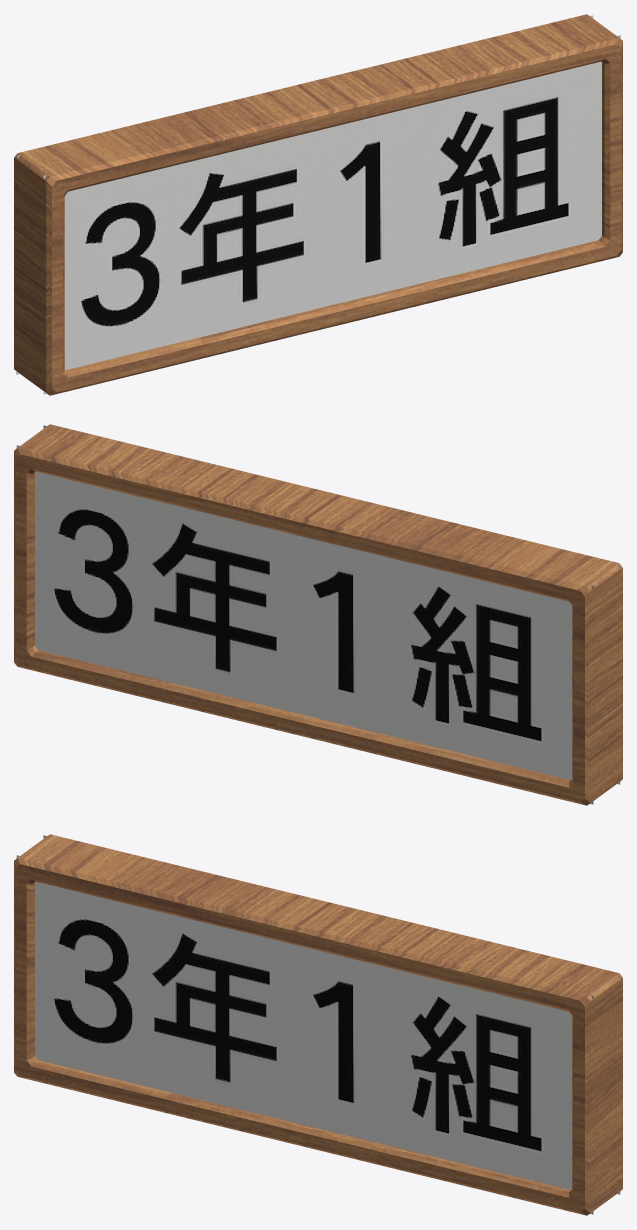
File: SM_sign_classroom_05.fbx
The picture shows the model from 3 angles, top to bottom: view 1: azimuth 30°, elevation 25°; view 2: azimuth 150°, elevation 25°; view 3: azimuth 330°, elevation 25°; orthographic projection.
Parts seen in each view (by area): view 1: sign_classroom03; view 2: sign_classroom03; view 3: sign_classroom03.
Boxes of the visible parts, <box> form: sign_classroom03: <box>14,14,622,395</box>; sign_classroom03: <box>14,424,622,805</box>; sign_classroom03: <box>14,834,622,1215</box>.
Bounding box in the file's own units: 15.03 × 5.45 × 1.65.
2 materials, 2 textured.
